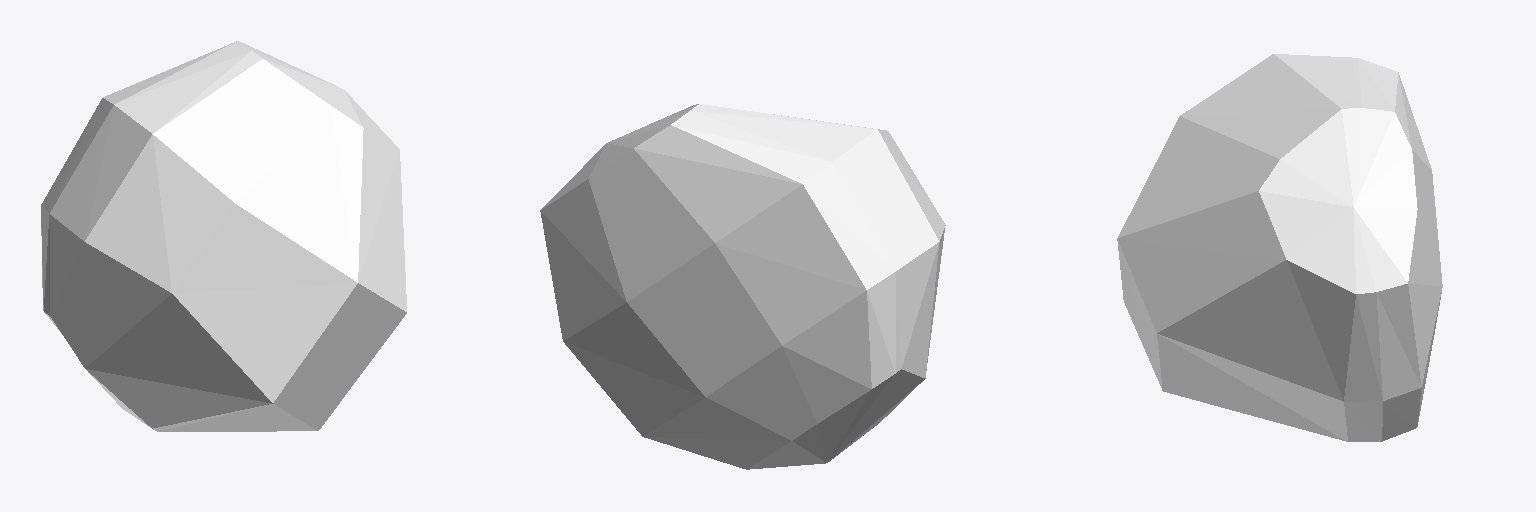
File: rock1.obj
3 views of the same model, side by side, from view 1: azimuth 30°, elevation 25°; view 2: azimuth 150°, elevation 25°; view 3: azimuth 270°, elevation 25° (orthographic).
Parts seen in each view (by area): view 1: Roca_2; view 2: Roca_2; view 3: Roca_2.
Part boxes in pixels (left/top/right/bottom): Roca_2: left=41, top=41, right=406, bottom=431; Roca_2: left=540, top=104, right=945, bottom=469; Roca_2: left=1117, top=54, right=1442, bottom=441.
Bounding box in the file's own units: 4.65 × 4.31 × 3.82.